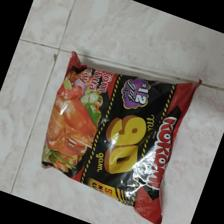Kokomi: (40, 51, 202, 224)
